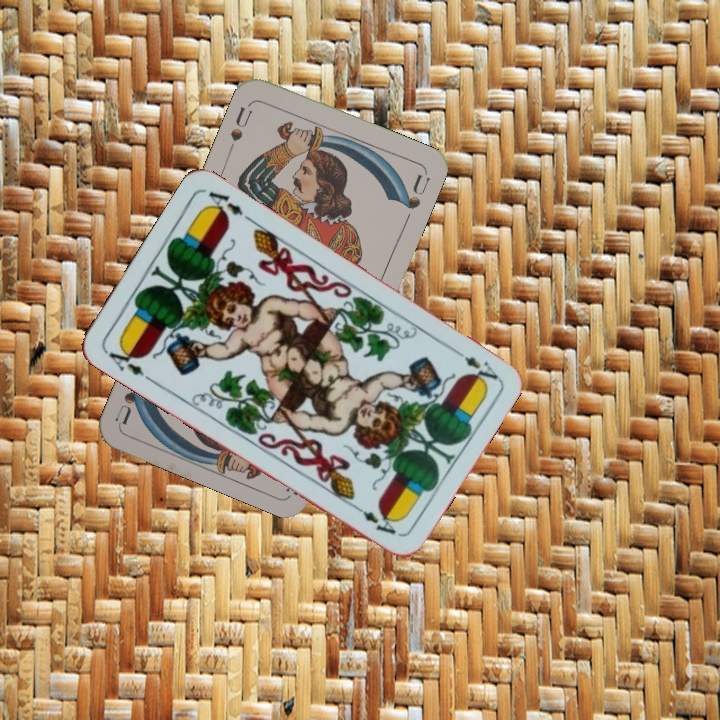EA: (448, 343, 500, 385), (102, 341, 147, 379)
SU: (224, 99, 255, 155)
